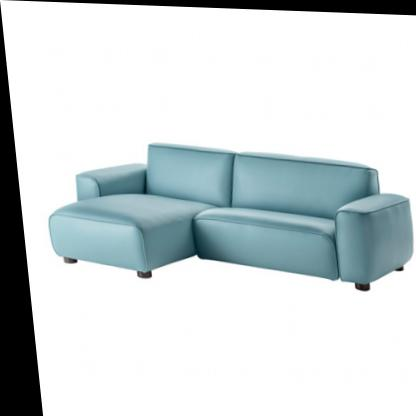Sofa: (35, 133, 416, 293)
